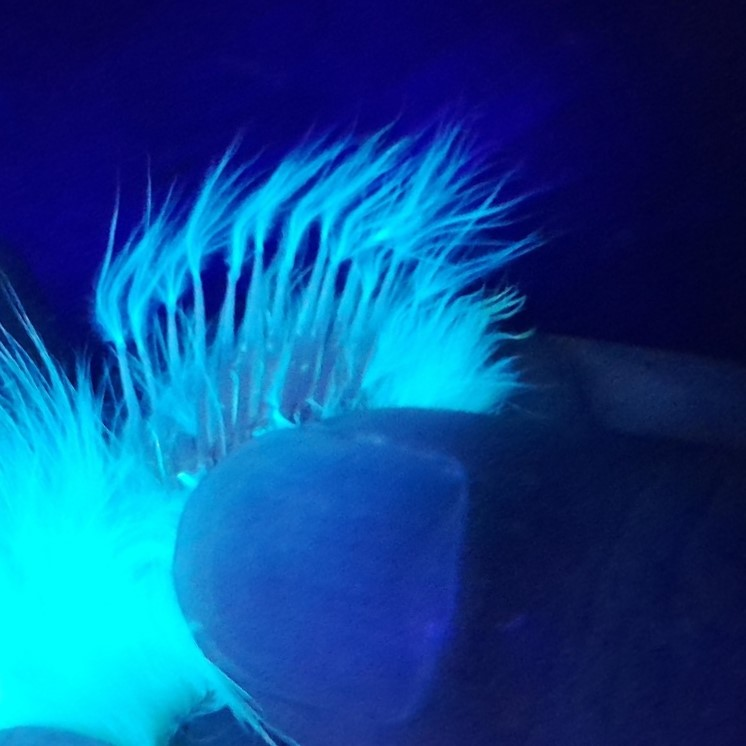male: (90, 223, 428, 483)
